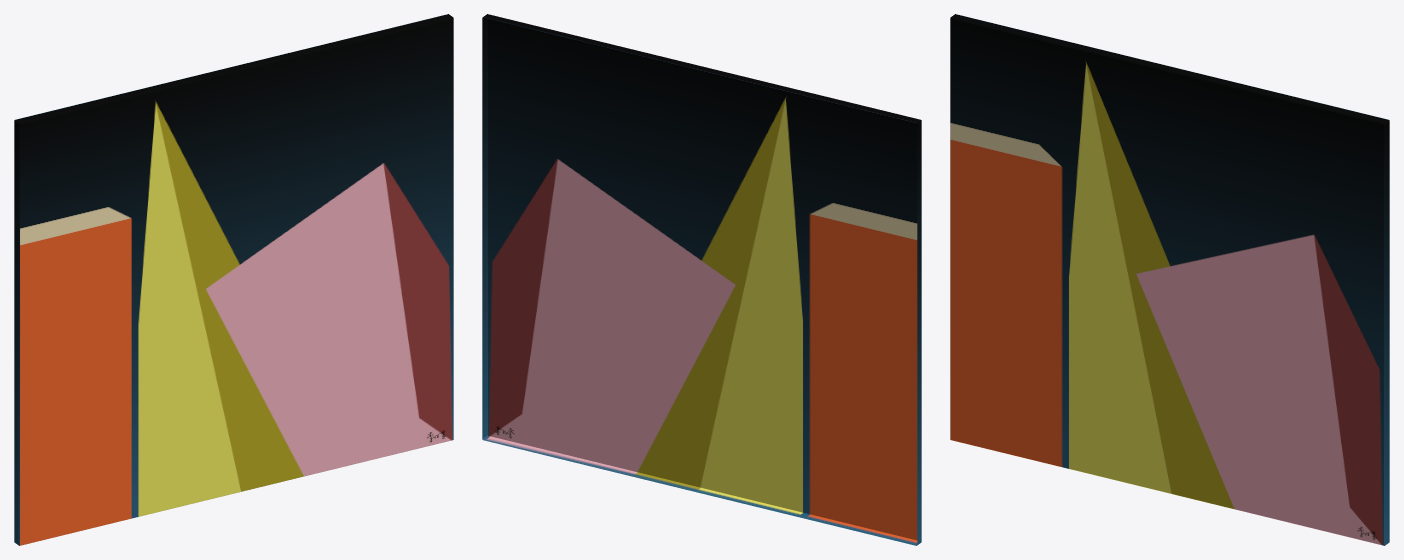
Rendered from Frame_nq.fbx.
The picture shows the model from 3 angles, left to right: view 1: azimuth 30°, elevation 25°; view 2: azimuth 150°, elevation 25°; view 3: azimuth 330°, elevation 25°; orthographic projection.
Visible parts, largest first — view 1: Frame_nq; view 2: Frame_nq; view 3: Frame_nq.
Boxes of the visible parts, box(x1,y1,x2,y2) form: Frame_nq: box(14, 14, 453, 545); Frame_nq: box(482, 14, 921, 545); Frame_nq: box(950, 14, 1389, 545).
Bounding box in the file's own units: 431 × 400 × 8.56.
